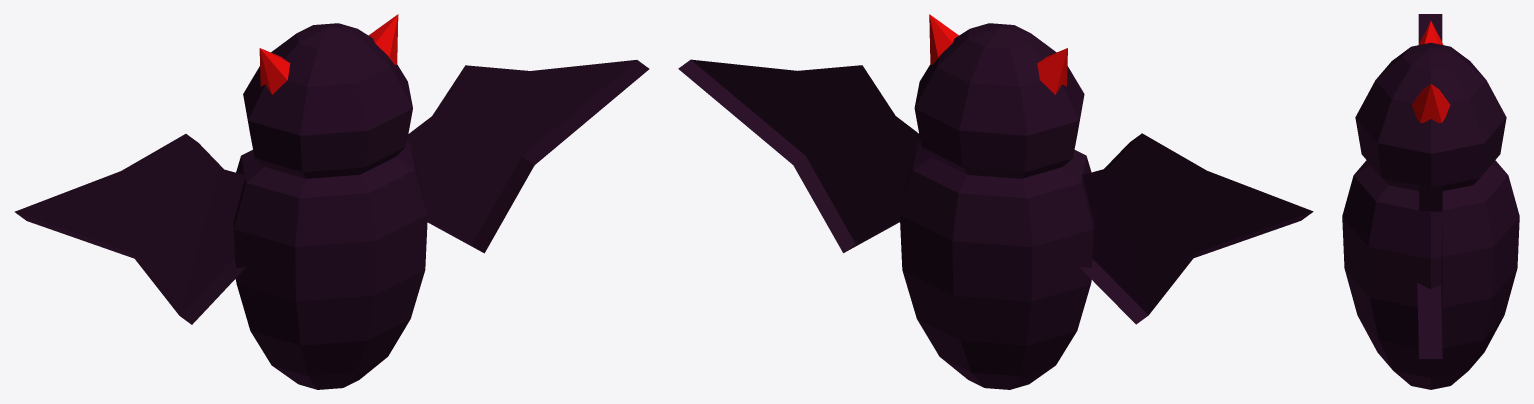
The model's file is Bat.fbx.
The picture shows the model from 3 angles, left to right: view 1: azimuth 30°, elevation 25°; view 2: azimuth 150°, elevation 25°; view 3: azimuth 270°, elevation 25°; orthographic projection. The views are drawn at different scales.
Parts seen in each view (by area): view 1: Bat; view 2: Bat; view 3: Bat.
Boxes of the visible parts, <box> form: Bat: <box>14,14,649,389</box>; Bat: <box>678,14,1313,389</box>; Bat: <box>1342,14,1519,389</box>.
Bounding box in the file's own units: 364 × 200 × 95.61.
